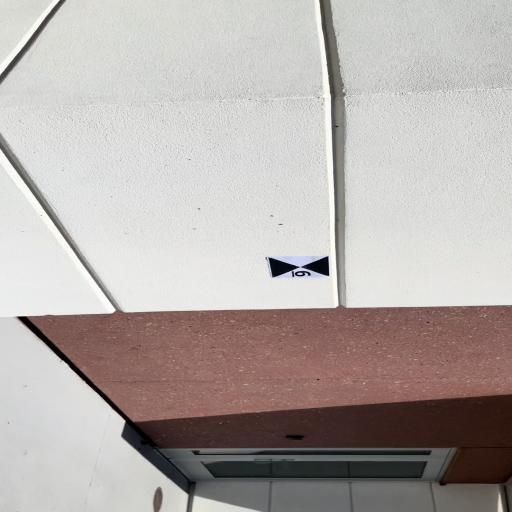target6: (265, 257, 329, 281)
